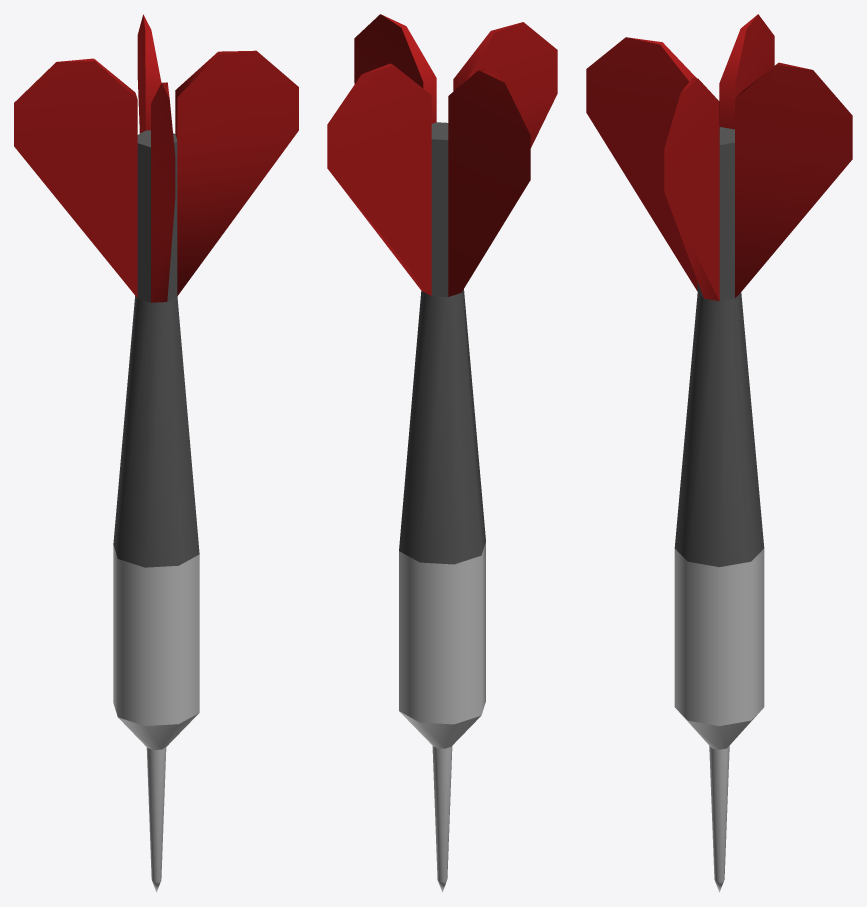
Rendered from Dart.FBX.
3 views of the same model, side by side, from view 1: azimuth 30°, elevation 25°; view 2: azimuth 150°, elevation 25°; view 3: azimuth 270°, elevation 25° (orthographic).
Visible parts, largest first — view 1: Dart; view 2: Dart; view 3: Dart.
Boxes of the visible parts, left/top/right/bottom form: Dart: left=14, top=14, right=298, bottom=892; Dart: left=327, top=14, right=557, bottom=892; Dart: left=586, top=14, right=852, bottom=892.
Size of the model in its own units: 22 by 76.53 by 22.
